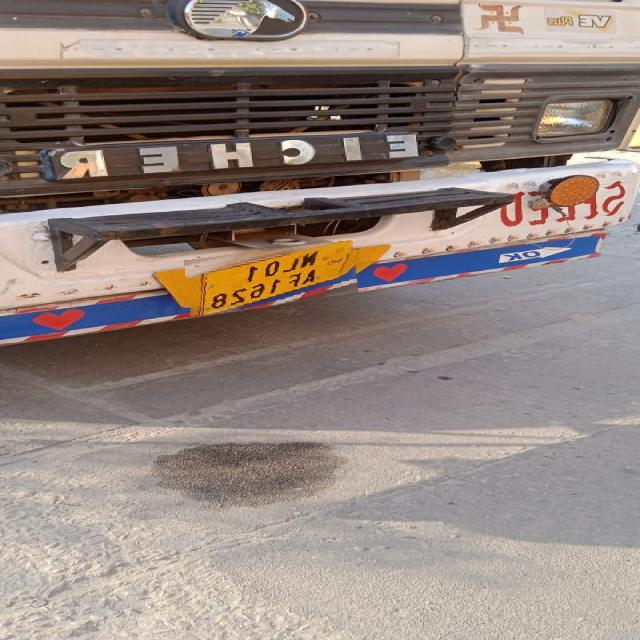License-plate: (185, 246, 357, 312)
